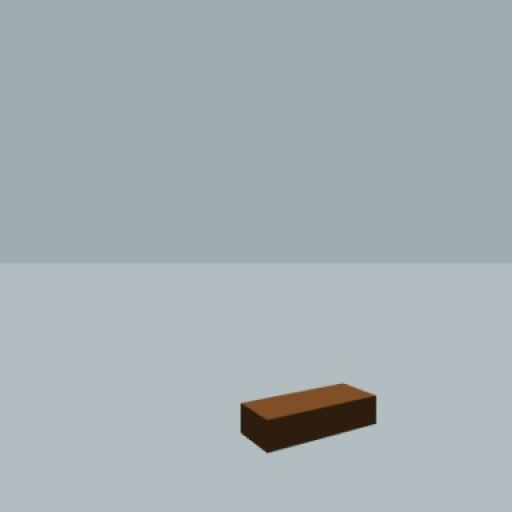debris_container: (240, 380, 377, 456)
